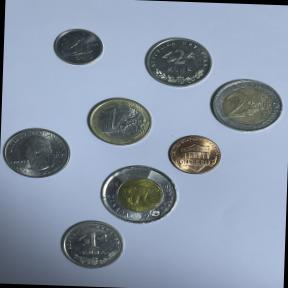1 Euro: (81, 94, 157, 148)
2 Euro: (205, 76, 288, 138)
Canda-10cent-: (50, 24, 106, 69)
Canda-2Dollar-: (97, 164, 180, 226)
Croatia-2Kune-: (138, 32, 216, 90)
US-1cent-: (166, 131, 225, 176)
US-25cent-: (0, 120, 75, 182)
